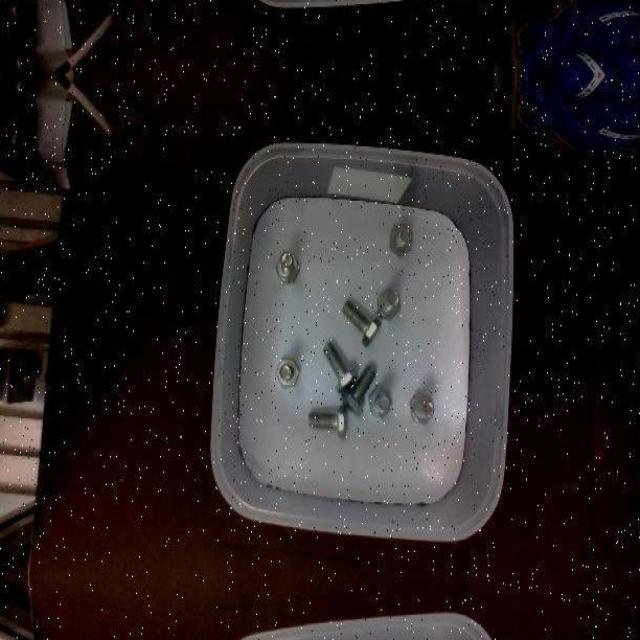screw: (323, 340, 358, 392), (342, 364, 376, 417), (342, 299, 381, 345), (308, 404, 347, 438), (408, 391, 433, 425), (376, 288, 401, 321), (368, 387, 393, 420), (389, 222, 412, 255), (276, 252, 300, 283), (275, 357, 299, 388)
